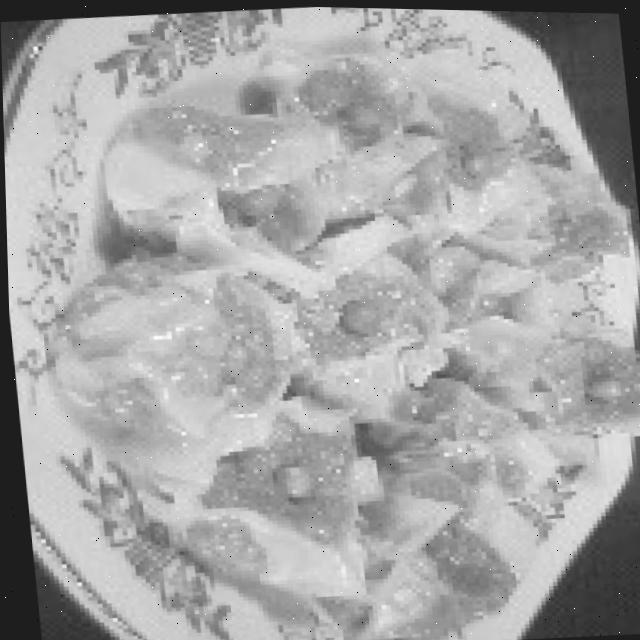带馅早点: (28, 27, 640, 640)
